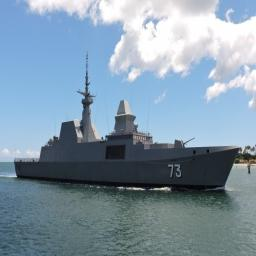Fragata: (10, 56, 243, 194)
